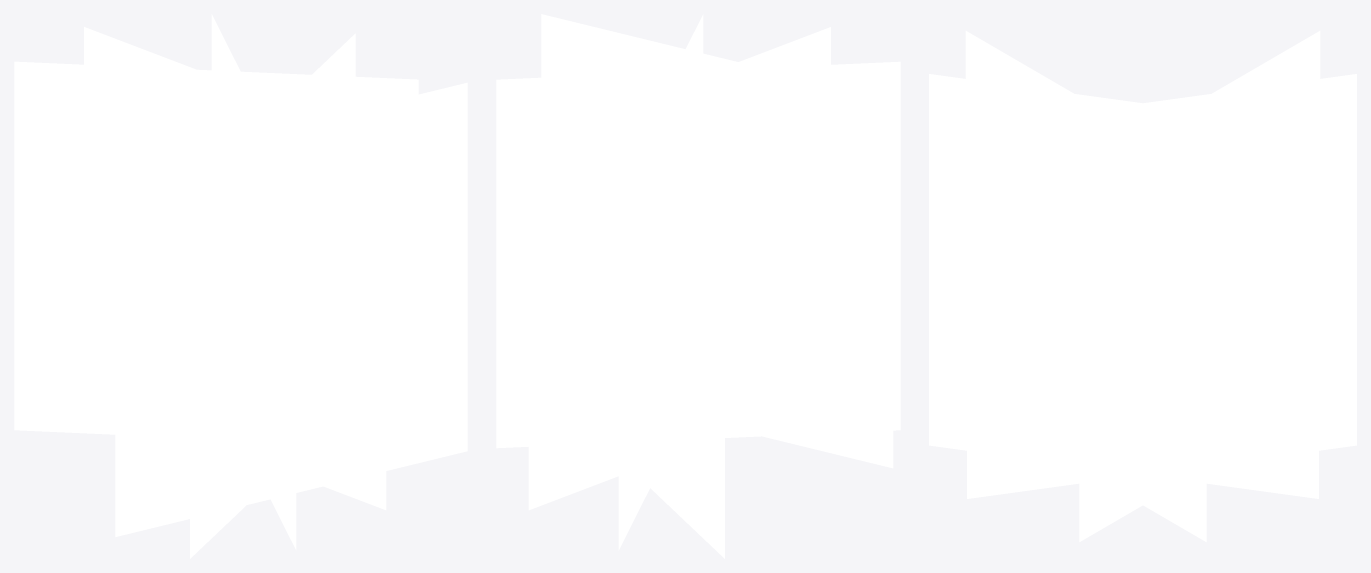
Rendered from stored_ki.glb.
The picture shows the model from 3 angles, left to right: view 1: azimuth 30°, elevation 25°; view 2: azimuth 150°, elevation 25°; view 3: azimuth 270°, elevation 25°; orthographic projection.
Parts seen in each view (by area): view 1: Soft mist layer, Soft mist layer.004, Soft mist layer.003, Soft mist layer.001, Soft mist layer.002; view 2: Soft mist layer, Soft mist layer.002, Soft mist layer.001, Soft mist layer.004, Soft mist layer.003; view 3: Soft mist layer.002, Soft mist layer.003, Soft mist layer.001, Soft mist layer.004.
Part boxes in pixels (box(x1,y1,x2,y2)): Soft mist layer: box(115, 82, 467, 536); Soft mist layer.004: box(14, 61, 418, 434); Soft mist layer.003: box(84, 27, 386, 509); Soft mist layer.001: box(190, 33, 355, 558); Soft mist layer.002: box(211, 14, 296, 549); Soft mist layer: box(541, 14, 893, 468); Soft mist layer.002: box(528, 27, 830, 510); Soft mist layer.001: box(496, 61, 900, 448); Soft mist layer.004: box(559, 33, 724, 558); Soft mist layer.003: box(618, 14, 703, 550); Soft mist layer.002: box(929, 74, 1318, 498); Soft mist layer.003: box(967, 74, 1356, 498); Soft mist layer.001: box(965, 31, 1206, 541); Soft mist layer.004: box(1079, 31, 1320, 541).
Size of the model in its own units: 0.13 by 0.13 by 0.1356.
Materials: 1 (1 with a texture image).
